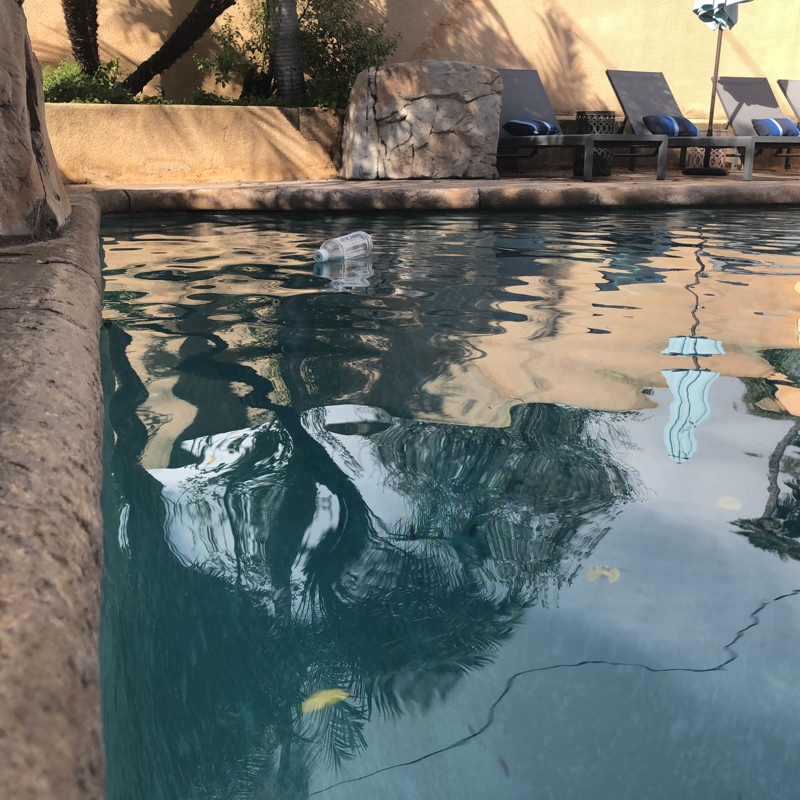Plastic Bottle: (311, 229, 377, 268)
